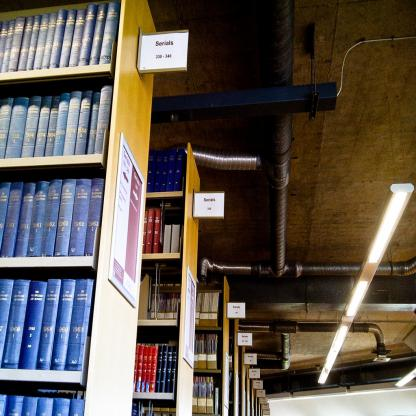book: (0, 0, 122, 77), (0, 278, 92, 374), (0, 84, 111, 160), (0, 178, 103, 256), (0, 388, 84, 415), (131, 342, 178, 390), (143, 148, 186, 192), (148, 284, 184, 323), (162, 209, 183, 260), (193, 332, 221, 369), (142, 206, 161, 254), (193, 374, 215, 415), (195, 291, 220, 326), (128, 402, 178, 416)
